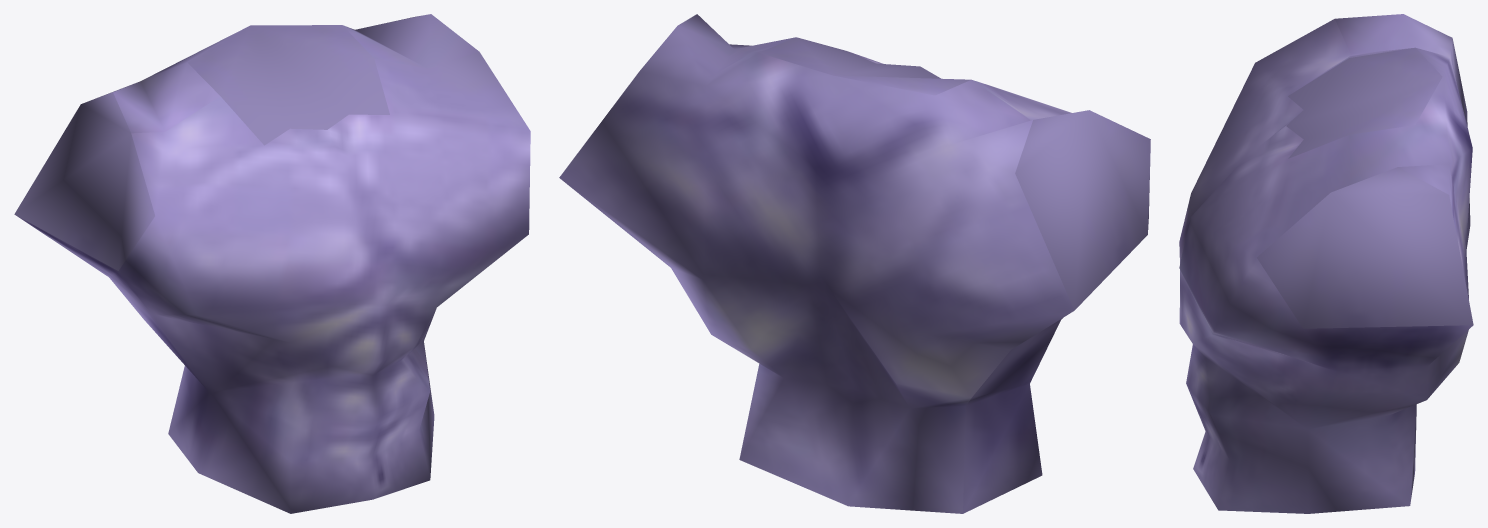
The model's file is uber_torso.gltf.
The picture shows the model from 3 angles, left to right: view 1: azimuth 30°, elevation 25°; view 2: azimuth 150°, elevation 25°; view 3: azimuth 270°, elevation 25°; orthographic projection. The views are drawn at different scales.
Visible parts, largest first — view 1: Mesh_0; view 2: Mesh_0; view 3: Mesh_0.
Part boxes in pixels (box(x1,y1,x2,y2)): Mesh_0: box(14, 14, 530, 513); Mesh_0: box(559, 14, 1150, 513); Mesh_0: box(1179, 14, 1473, 513).
Bounding box in the file's own units: 0.6719 × 0.559 × 0.3737.
Materials: 1 (1 with a texture image).
